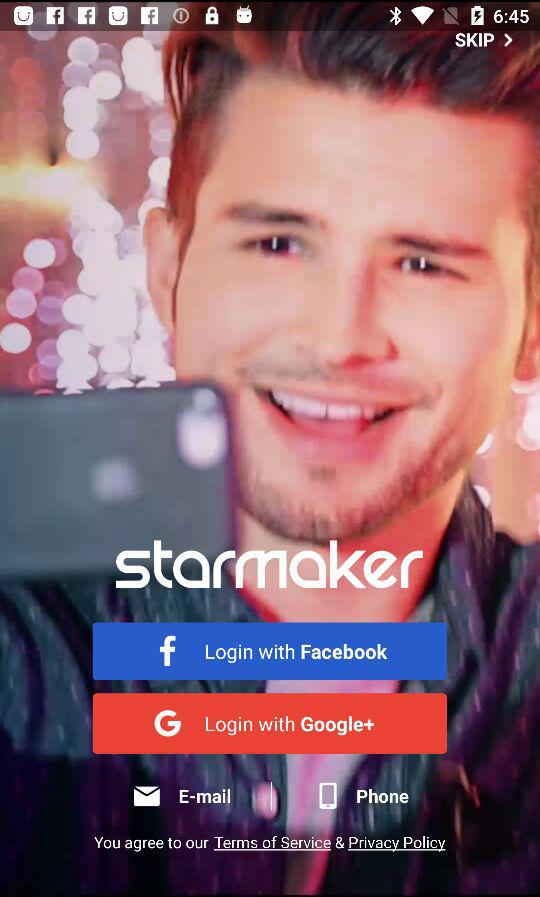BackgroundImage: (1, 32, 540, 897)
Icon: (134, 786, 161, 807)
Image: (117, 539, 424, 590), (319, 783, 337, 809)
Text: (94, 836, 447, 853), (455, 32, 513, 49), (357, 788, 409, 803), (180, 789, 231, 804)
TextButton: (93, 693, 448, 755), (93, 622, 449, 681)
UpperTaskBar: (1, 1, 540, 32)
